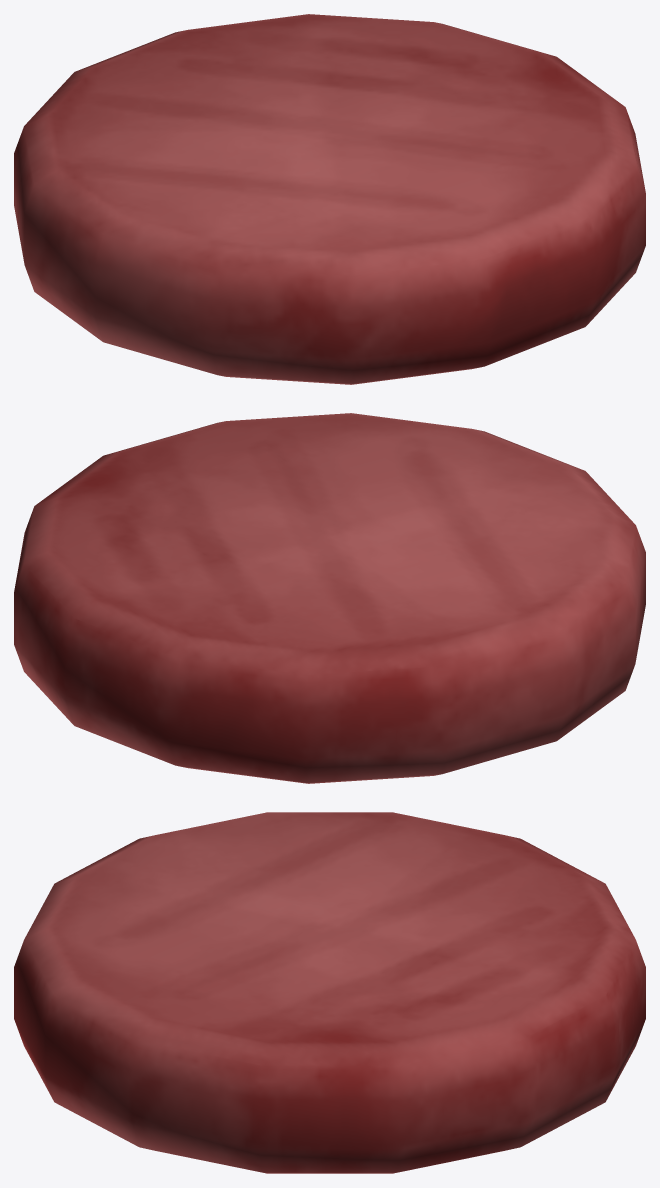
Rendered from MSH_Carne_Cruda.fbx.
3 views of the same model, one above another, from view 1: azimuth 30°, elevation 25°; view 2: azimuth 150°, elevation 25°; view 3: azimuth 270°, elevation 25° (orthographic).
Parts seen in each view (by area): view 1: MSH_Carne_Cruda; view 2: MSH_Carne_Cruda; view 3: MSH_Carne_Cruda.
Part boxes in pixels (<box>): MSH_Carne_Cruda: <box>14,14,645,384</box>; MSH_Carne_Cruda: <box>14,413,645,783</box>; MSH_Carne_Cruda: <box>14,812,645,1173</box>.
Size of the model in its own units: 12.53 by 12.85 by 2.9.
Materials: 1 (1 with a texture image).
